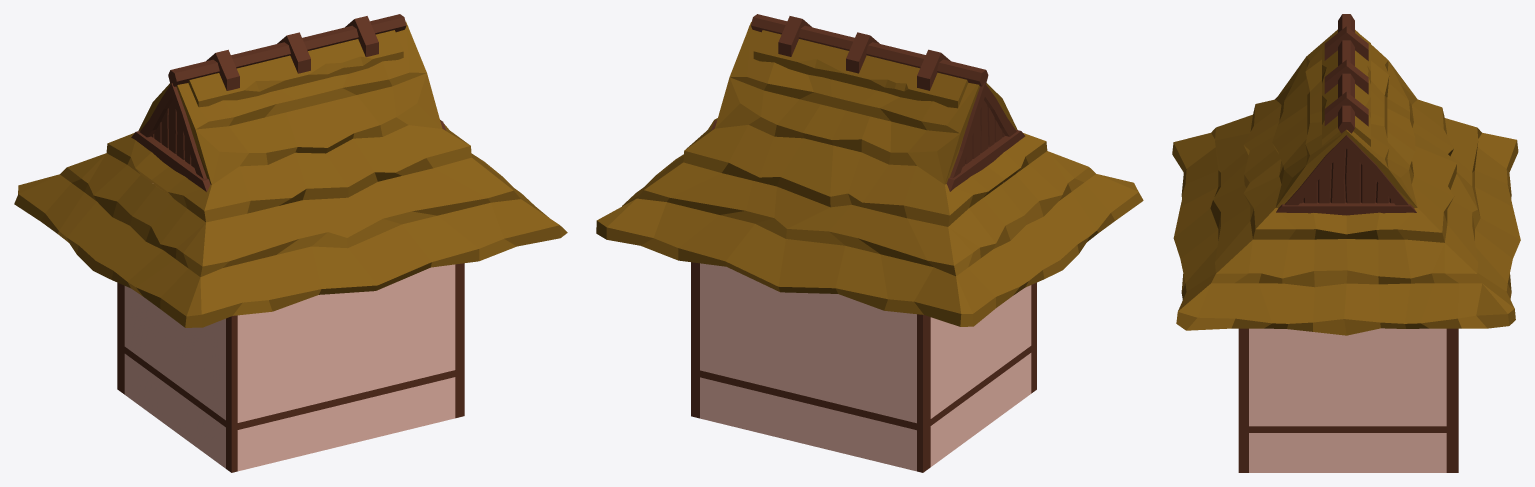
The model's file is Casa.FBX.
3 views of the same model, side by side, from view 1: azimuth 30°, elevation 25°; view 2: azimuth 150°, elevation 25°; view 3: azimuth 270°, elevation 25° (orthographic). The views are drawn at different scales.
Visible parts, largest first — view 1: casa; view 2: casa; view 3: casa.
Boxes of the visible parts, box(x1,y1,x2,y2) form: casa: box(14, 14, 567, 472); casa: box(596, 14, 1143, 472); casa: box(1172, 14, 1520, 472).
Size of the model in its own units: 82.12 by 73.55 by 65.3.
